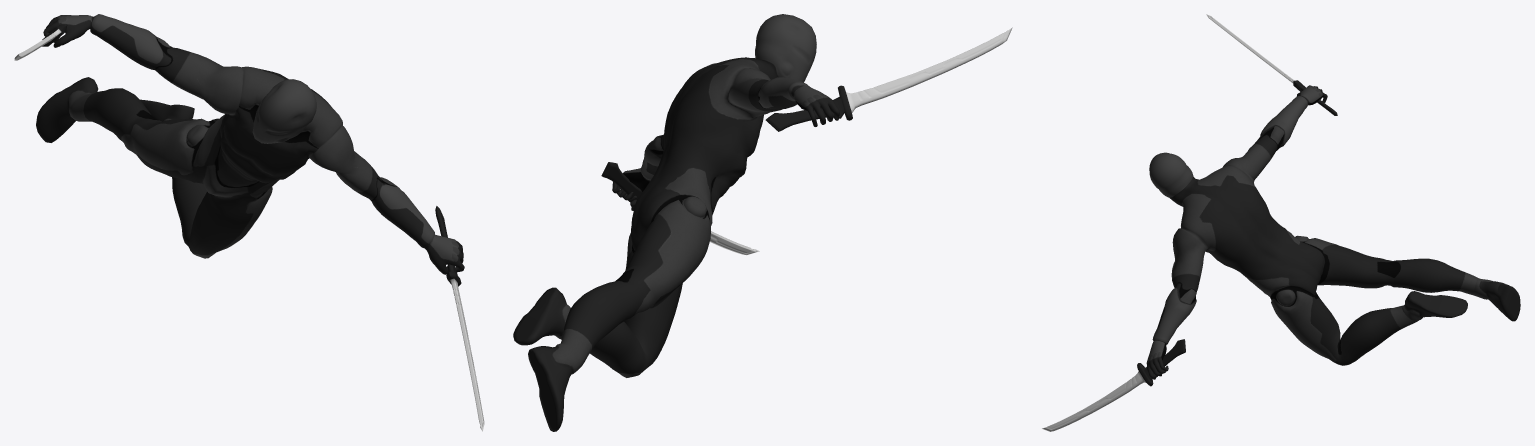
3 views of the same model, side by side, from view 1: azimuth 30°, elevation 25°; view 2: azimuth 150°, elevation 25°; view 3: azimuth 270°, elevation 25° (orthographic). The views are drawn at different scales.
Parts seen in each view (by area): view 1: Cyborg_Ninja_Killer, Sword_l, Sword_l001; view 2: Cyborg_Ninja_Killer, Sword_l001, Sword_l; view 3: Cyborg_Ninja_Killer, Sword_l, Sword_l001.
Part boxes in pixels (box(x1,y1,x2,y2)): Cyborg_Ninja_Killer: box(36, 14, 464, 274); Sword_l: box(435, 206, 484, 431); Sword_l001: box(14, 24, 67, 60); Cyborg_Ninja_Killer: box(513, 14, 839, 431); Sword_l001: box(765, 27, 1012, 131); Sword_l: box(601, 162, 759, 255); Cyborg_Ninja_Killer: box(1146, 85, 1520, 377); Sword_l: box(1042, 339, 1185, 431); Sword_l001: box(1206, 14, 1337, 115).
Size of the model in its own units: 167 by 148 by 224.
2 materials, 2 textured.
